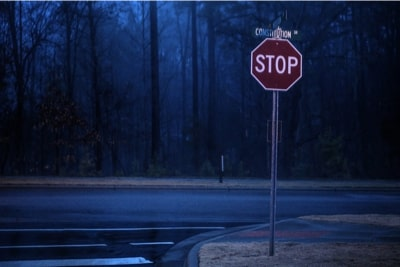StopSign: (249, 37, 303, 93)
